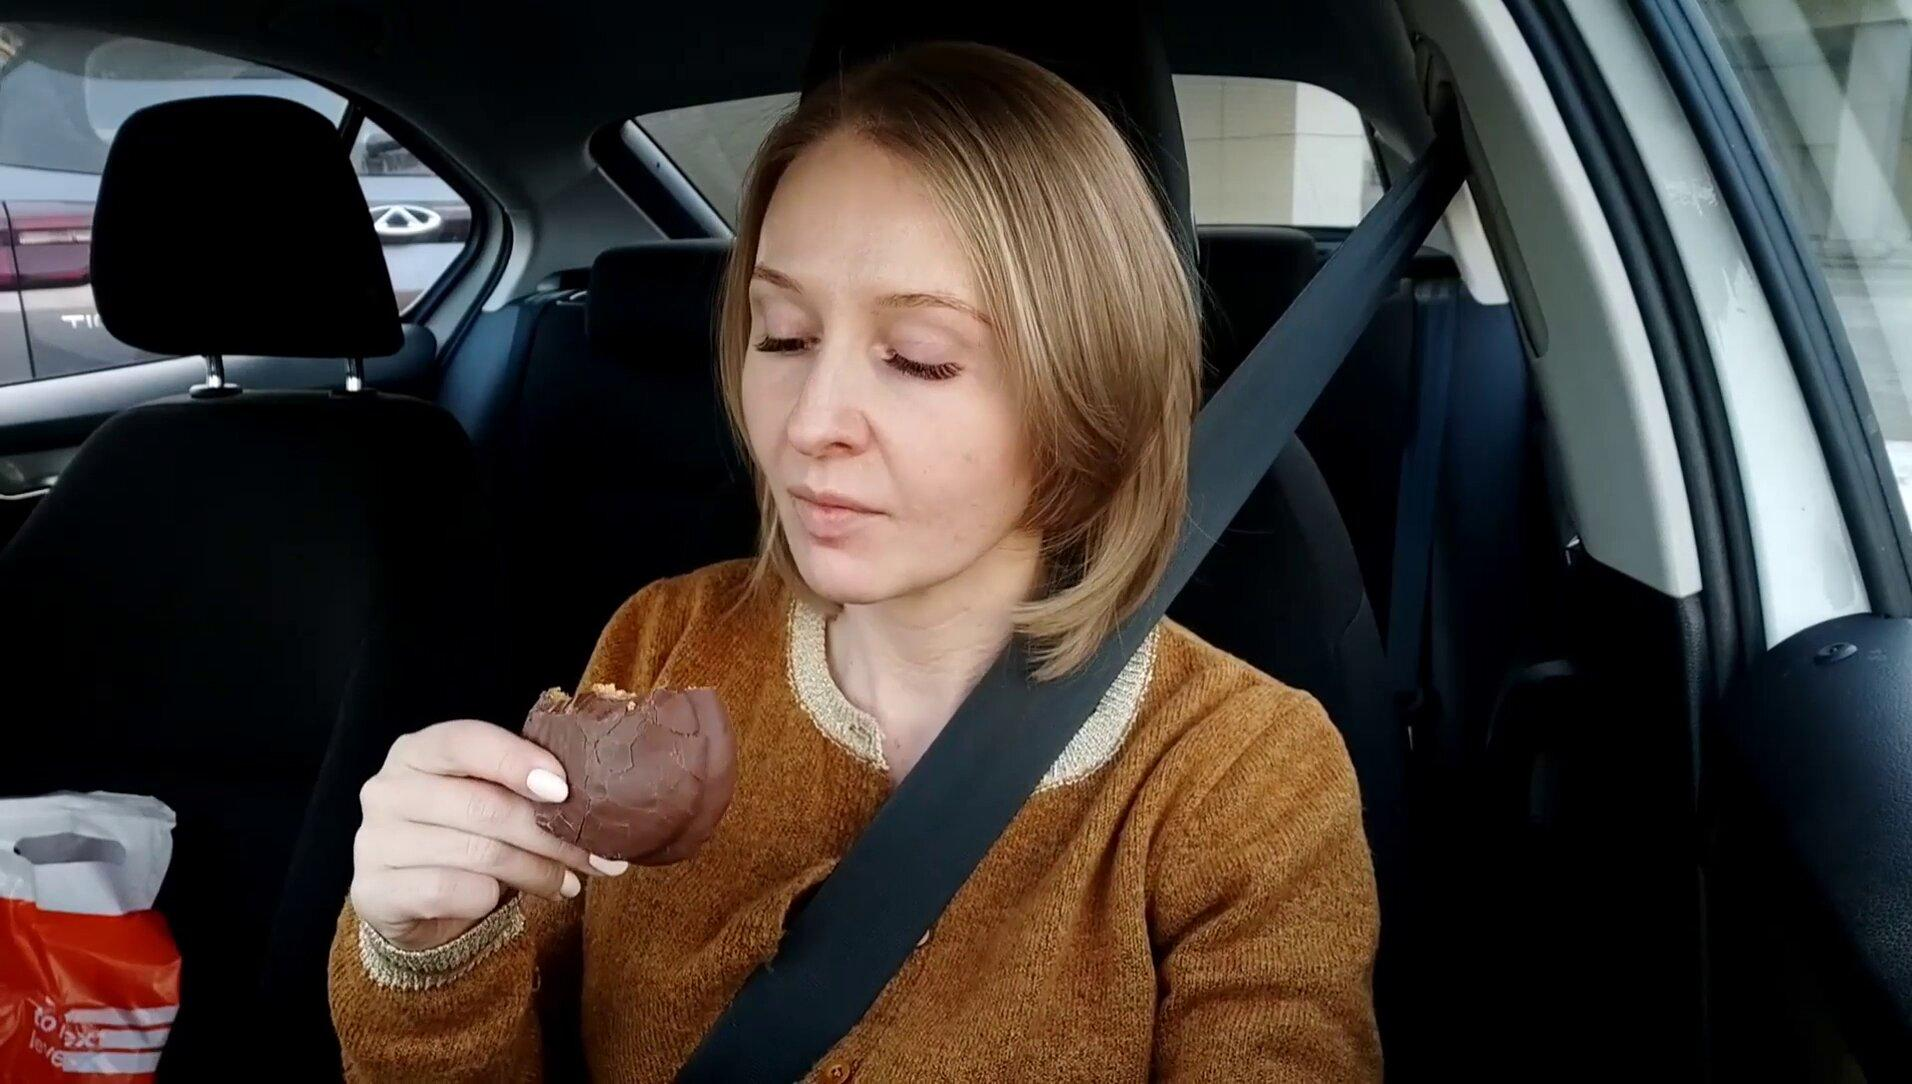Eating: (516, 677, 747, 870)
